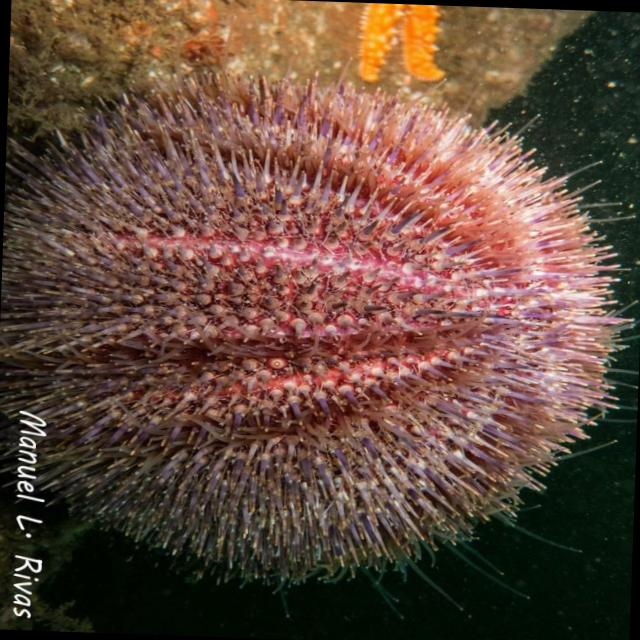Deniz Kestanesi: (0, 39, 640, 630)
